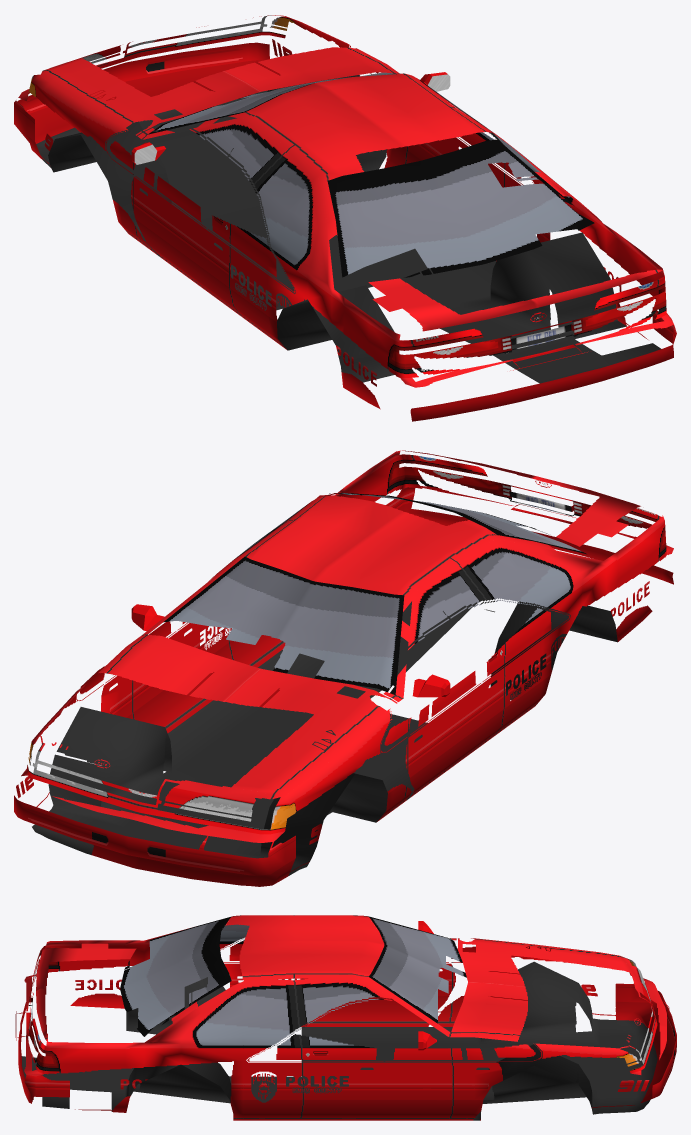
Rendered from 93fordthunderbird.fbx.
The picture shows the model from 3 angles, top to bottom: view 1: azimuth 30°, elevation 25°; view 2: azimuth 150°, elevation 25°; view 3: azimuth 270°, elevation 25°; orthographic projection. The views are drawn at different scales.
Visible parts, largest first — view 1: 93thunderbird; view 2: 93thunderbird; view 3: 93thunderbird.
Boxes of the visible parts, bbox=[...] form: 93thunderbird: bbox=[14, 15, 676, 421]; 93thunderbird: bbox=[14, 450, 673, 886]; 93thunderbird: bbox=[15, 915, 676, 1120].
Bounding box in the file's own units: 2.1 × 1.09 × 4.92.
